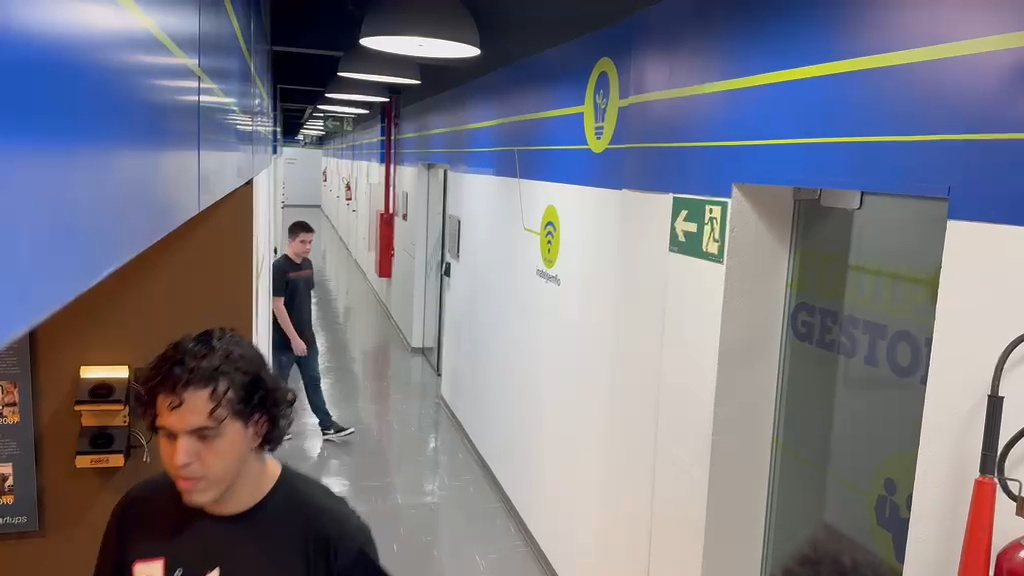person: (92, 328, 389, 572), (272, 220, 355, 442)
